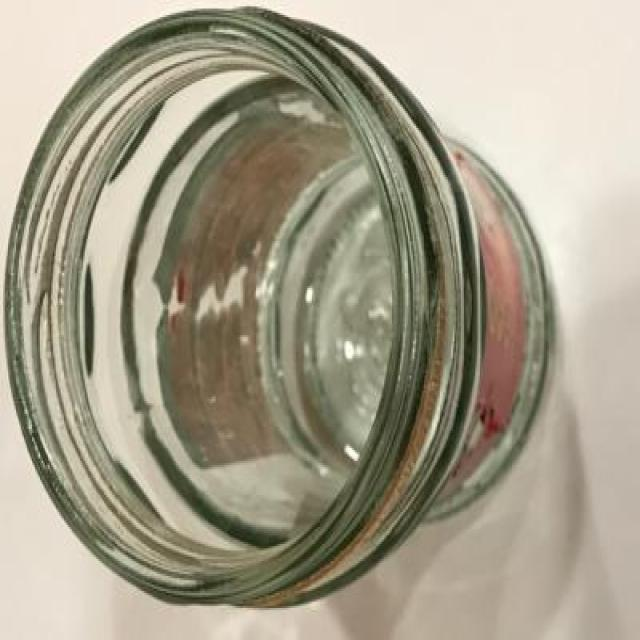glass: (6, 6, 555, 611)
